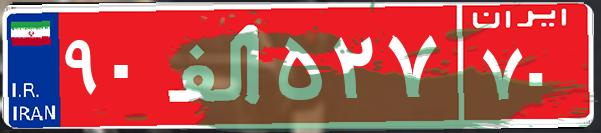0: (110, 28, 158, 105), (525, 38, 570, 115)
2: (330, 28, 385, 110)
5: (273, 28, 330, 110)
7: (385, 28, 445, 110), (475, 38, 525, 113)
9: (57, 26, 110, 107)
الف: (158, 15, 273, 115)
